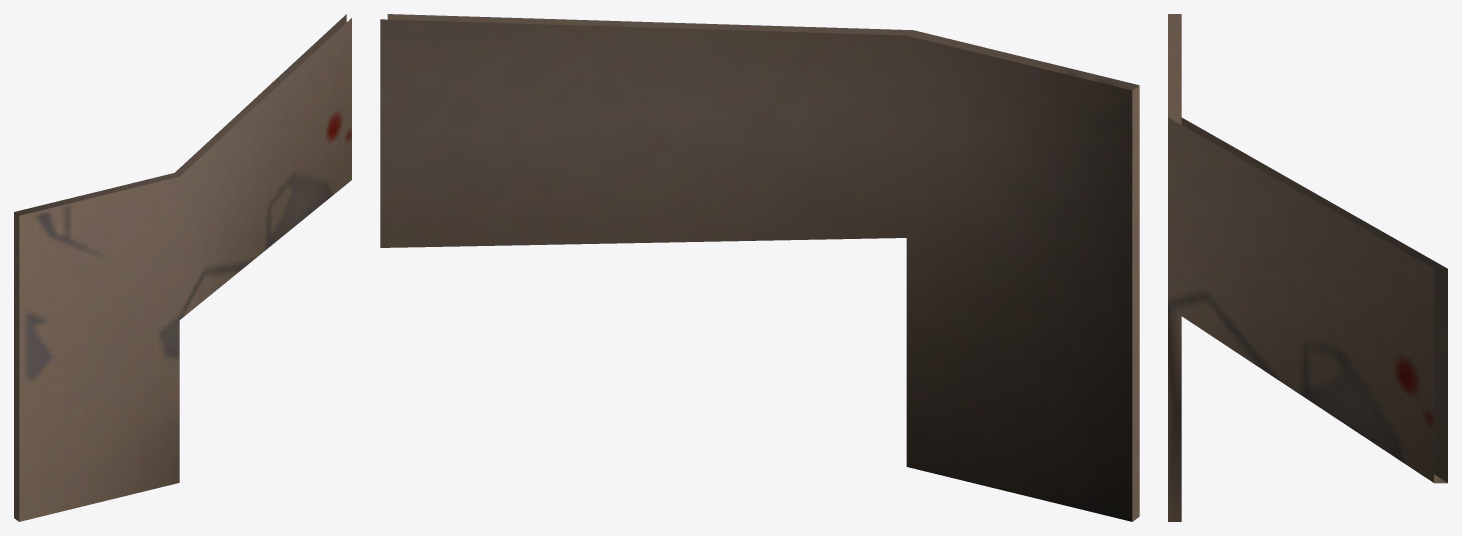
Rendered from terrace_05_aeebb3f4__ZombiesII_depot_diffuse_01_e329a6cf_c1f257.obj.
The picture shows the model from 3 angles, left to right: view 1: azimuth 30°, elevation 25°; view 2: azimuth 150°, elevation 25°; view 3: azimuth 270°, elevation 25°; orthographic projection. The views are drawn at different scales.
Size of the model in its own units: 9.94 by 7.12 by 4.21.
1 material, 1 textured.
